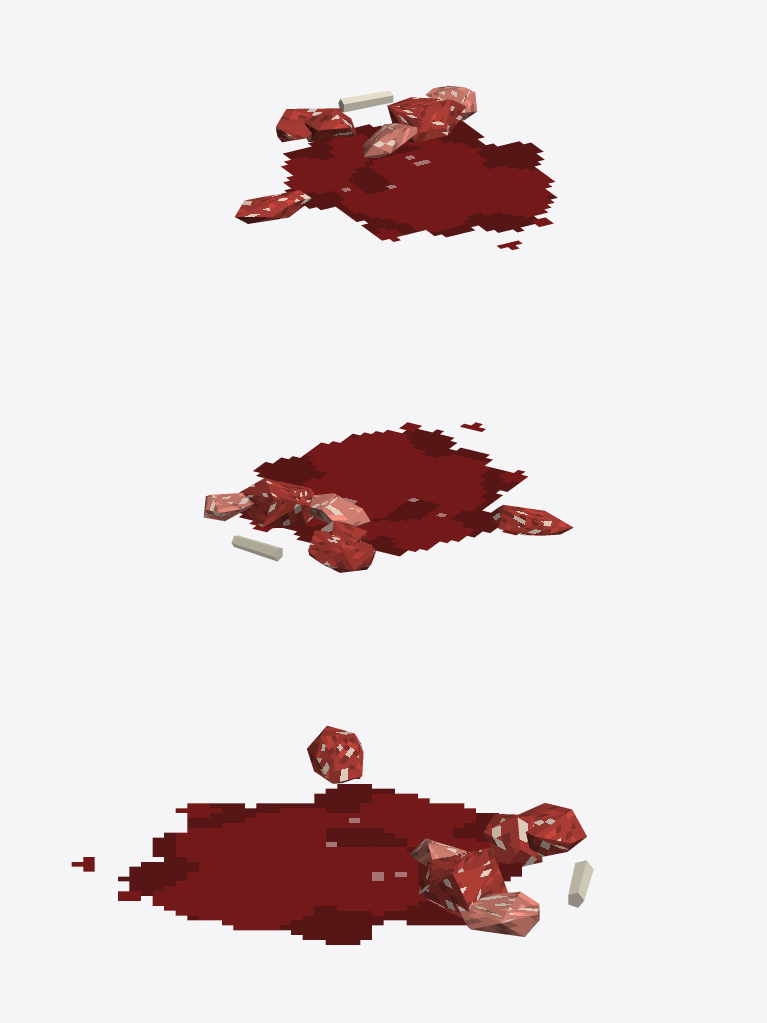
File: fd_gibs_flesh__2.glb
The picture shows the model from 3 angles, top to bottom: view 1: azimuth 30°, elevation 25°; view 2: azimuth 150°, elevation 25°; view 3: azimuth 270°, elevation 25°; orthographic projection. The views are drawn at different scales.
Visible parts, largest first — view 1: block_liquid, block_flesh (×6), block_bone; view 2: block_liquid, block_flesh (×6), block_bone; view 3: block_liquid, block_flesh (×6), block_bone.
Boxes of the visible parts, <box> form: block_liquid: <box>281,120,557,249</box>; block_flesh (×6): <box>235,85,477,223</box>; block_bone: <box>338,90,393,112</box>; block_liquid: <box>239,422,527,556</box>; block_flesh (×6): <box>203,478,573,572</box>; block_bone: <box>231,535,282,561</box>; block_liquid: <box>71,777,521,944</box>; block_flesh (×6): <box>307,725,586,936</box>; block_bone: <box>568,860,593,907</box>.
Bounding box in the file's own units: 1 × 0.0695 × 1.
Materials: 2 (2 with a texture image).
